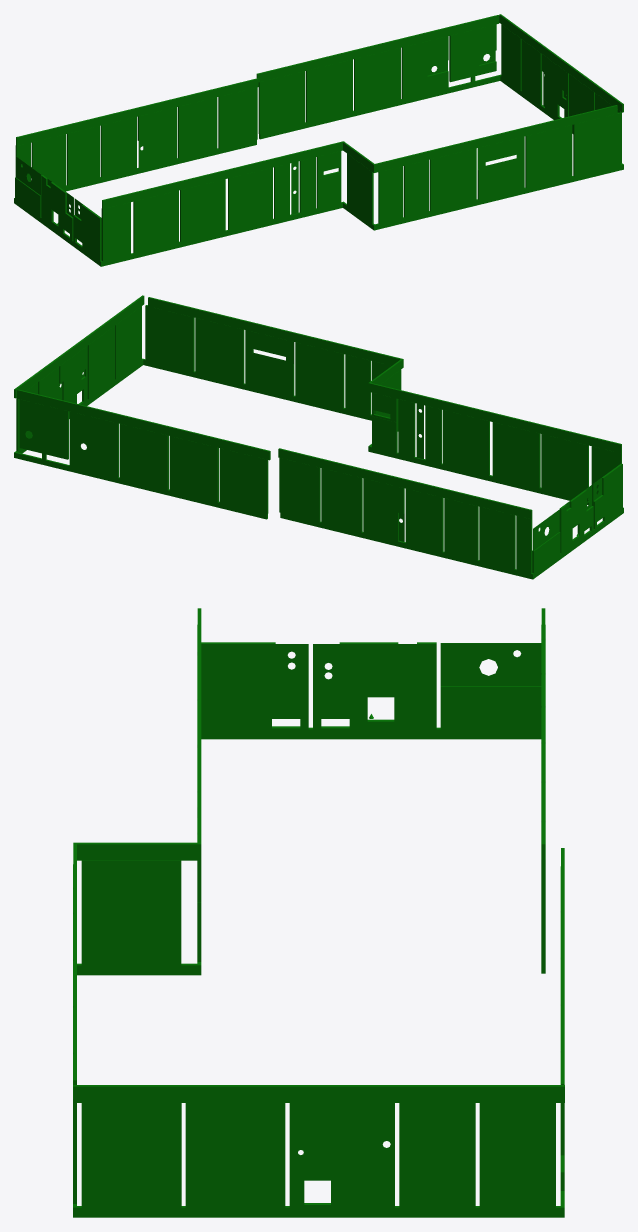
The model's file is Image-1710907682648-2280649884368_27-KZ50_SKIRT.fbx.
3 views of the same model, one above another, from view 1: azimuth 30°, elevation 25°; view 2: azimuth 150°, elevation 25°; view 3: azimuth 270°, elevation 25° (orthographic). The views are drawn at different scales.
Visible parts, largest first — view 1: BOX 8 of SUBEQUIPMENT /27-KZ50_SKIRT/LEFT-SIDE, BOX 9 of SUBEQUIPMENT /27-KZ50_SKIRT/LEFT-SIDE, BOX 11 of SUBEQUIPMENT /27-KZ50_SKIRT/LEFT-SIDE, BOX 12 of SUBEQUIPMENT /27-KZ50_SKIRT/RIGHT-SIDE, BOX 9 of SUBEQUIPMENT /27-KZ50_SKIRT/RIGHT-SIDE, BOX 11 of SUBEQUIPMENT /27-KZ50_SKIRT/RIGHT-SIDE, BOX 10 of SUBEQUIPMENT /27-KZ50_SKIRT/RIGHT-SIDE, BOX 10 of SUBEQUIPMENT /27-KZ50_SKIRT/LEFT-SIDE, BOX 21 of SUBEQUIPMENT /27-KZ50_SKIRT/LEFT-SIDE, BOX 20 of SUBEQUIPMENT /27-KZ50_SKIRT/LEFT-SIDE, BOX 19 of SUBEQUIPMENT /27-KZ50_SKIRT/LEFT-SIDE, BOX 8 of SUBEQUIPMENT /27-KZ50_SKIRT/RIGHT-SIDE (+39 smaller); view 2: BOX 8 of SUBEQUIPMENT /27-KZ50_SKIRT/LEFT-SIDE, BOX 12 of SUBEQUIPMENT /27-KZ50_SKIRT/RIGHT-SIDE, BOX 11 of SUBEQUIPMENT /27-KZ50_SKIRT/RIGHT-SIDE, BOX 9 of SUBEQUIPMENT /27-KZ50_SKIRT/LEFT-SIDE, BOX 11 of SUBEQUIPMENT /27-KZ50_SKIRT/LEFT-SIDE, BOX 10 of SUBEQUIPMENT /27-KZ50_SKIRT/RIGHT-SIDE, BOX 9 of SUBEQUIPMENT /27-KZ50_SKIRT/RIGHT-SIDE, BOX 20 of SUBEQUIPMENT /27-KZ50_SKIRT/LEFT-SIDE, BOX 10 of SUBEQUIPMENT /27-KZ50_SKIRT/LEFT-SIDE, BOX 19 of SUBEQUIPMENT /27-KZ50_SKIRT/LEFT-SIDE, BOX 21 of SUBEQUIPMENT /27-KZ50_SKIRT/LEFT-SIDE, BOX 8 of SUBEQUIPMENT /27-KZ50_SKIRT/RIGHT-SIDE (+38 smaller); view 3: BOX 3 of SUBEQUIPMENT /27-KZ50_SKIRT/AIR_INT-SIDE, BOX 5 of SUBEQUIPMENT /27-KZ50_SKIRT/GEN_COMP-SIDE, BOX 6 of SUBEQUIPMENT /27-KZ50_SKIRT/GEN_COMP-SIDE, BOX 7 of SUBEQUIPMENT /27-KZ50_SKIRT/GEN_COMP-SIDE, BOX 8 of SUBEQUIPMENT /27-KZ50_SKIRT/AIR_INT-SIDE, BOX 2 of SUBEQUIPMENT /27-KZ50_SKIRT/AIR_INT-SIDE, BOX 4 of SUBEQUIPMENT /27-KZ50_SKIRT/GEN_COMP-SIDE, BOX 8 of SUBEQUIPMENT /27-KZ50_SKIRT/GEN_COMP-SIDE, BOX 1 of SUBEQUIPMENT /27-KZ50_SKIRT/GEN_COMP-SIDE, BOX 2 of SUBEQUIPMENT /27-KZ50_SKIRT/GEN_COMP-SIDE, BOX 6 of SUBEQUIPMENT /27-KZ50_SKIRT/AIR_INT-SIDE, BOX 7 of SUBEQUIPMENT /27-KZ50_SKIRT/AIR_INT-SIDE (+4 smaller).
Part boxes in pixels (x1,y1,x2,y2): BOX 8 of SUBEQUIPMENT /27-KZ50_SKIRT/LEFT-SIDE: [573, 112, 620, 176]; BOX 9 of SUBEQUIPMENT /27-KZ50_SKIRT/LEFT-SIDE: [525, 125, 572, 188]; BOX 11 of SUBEQUIPMENT /27-KZ50_SKIRT/LEFT-SIDE: [429, 148, 476, 211]; BOX 12 of SUBEQUIPMENT /27-KZ50_SKIRT/RIGHT-SIDE: [258, 71, 305, 134]; BOX 9 of SUBEQUIPMENT /27-KZ50_SKIRT/RIGHT-SIDE: [401, 36, 448, 99]; BOX 11 of SUBEQUIPMENT /27-KZ50_SKIRT/RIGHT-SIDE: [306, 59, 352, 122]; BOX 10 of SUBEQUIPMENT /27-KZ50_SKIRT/RIGHT-SIDE: [354, 47, 400, 110]; BOX 10 of SUBEQUIPMENT /27-KZ50_SKIRT/LEFT-SIDE: [477, 136, 524, 199]; BOX 21 of SUBEQUIPMENT /27-KZ50_SKIRT/LEFT-SIDE: [133, 190, 178, 253]; BOX 20 of SUBEQUIPMENT /27-KZ50_SKIRT/LEFT-SIDE: [180, 179, 225, 242]; BOX 19 of SUBEQUIPMENT /27-KZ50_SKIRT/LEFT-SIDE: [228, 167, 272, 230]; BOX 8 of SUBEQUIPMENT /27-KZ50_SKIRT/RIGHT-SIDE: [449, 24, 496, 82]; BOX 8 of SUBEQUIPMENT /27-KZ50_SKIRT/LEFT-SIDE: [145, 305, 194, 371]; BOX 12 of SUBEQUIPMENT /27-KZ50_SKIRT/RIGHT-SIDE: [219, 448, 268, 514]; BOX 11 of SUBEQUIPMENT /27-KZ50_SKIRT/RIGHT-SIDE: [169, 436, 218, 502]; BOX 9 of SUBEQUIPMENT /27-KZ50_SKIRT/LEFT-SIDE: [195, 318, 244, 383]; BOX 11 of SUBEQUIPMENT /27-KZ50_SKIRT/LEFT-SIDE: [295, 342, 344, 408]; BOX 10 of SUBEQUIPMENT /27-KZ50_SKIRT/RIGHT-SIDE: [119, 424, 168, 489]; BOX 9 of SUBEQUIPMENT /27-KZ50_SKIRT/RIGHT-SIDE: [69, 411, 118, 477]; BOX 20 of SUBEQUIPMENT /27-KZ50_SKIRT/LEFT-SIDE: [492, 422, 540, 487]; BOX 10 of SUBEQUIPMENT /27-KZ50_SKIRT/LEFT-SIDE: [245, 330, 294, 396]; BOX 19 of SUBEQUIPMENT /27-KZ50_SKIRT/LEFT-SIDE: [443, 410, 489, 475]; BOX 21 of SUBEQUIPMENT /27-KZ50_SKIRT/LEFT-SIDE: [541, 434, 588, 499]; BOX 8 of SUBEQUIPMENT /27-KZ50_SKIRT/RIGHT-SIDE: [19, 399, 68, 460]; BOX 3 of SUBEQUIPMENT /27-KZ50_SKIRT/AIR_INT-SIDE: [81, 860, 181, 965]; BOX 5 of SUBEQUIPMENT /27-KZ50_SKIRT/GEN_COMP-SIDE: [81, 1103, 181, 1207]; BOX 6 of SUBEQUIPMENT /27-KZ50_SKIRT/GEN_COMP-SIDE: [185, 1103, 285, 1207]; BOX 7 of SUBEQUIPMENT /27-KZ50_SKIRT/GEN_COMP-SIDE: [289, 1103, 394, 1207]; BOX 8 of SUBEQUIPMENT /27-KZ50_SKIRT/AIR_INT-SIDE: [313, 642, 436, 729]; BOX 2 of SUBEQUIPMENT /27-KZ50_SKIRT/AIR_INT-SIDE: [201, 642, 308, 729]; BOX 4 of SUBEQUIPMENT /27-KZ50_SKIRT/GEN_COMP-SIDE: [479, 1103, 555, 1207]; BOX 8 of SUBEQUIPMENT /27-KZ50_SKIRT/GEN_COMP-SIDE: [399, 1103, 475, 1207]; BOX 1 of SUBEQUIPMENT /27-KZ50_SKIRT/GEN_COMP-SIDE: [73, 1206, 564, 1217]; BOX 2 of SUBEQUIPMENT /27-KZ50_SKIRT/GEN_COMP-SIDE: [73, 1085, 366, 1102]; BOX 6 of SUBEQUIPMENT /27-KZ50_SKIRT/AIR_INT-SIDE: [440, 686, 541, 729]; BOX 7 of SUBEQUIPMENT /27-KZ50_SKIRT/AIR_INT-SIDE: [440, 643, 541, 685].
Size of the model in its own units: 13.78 by 5.96 by 1.75.
